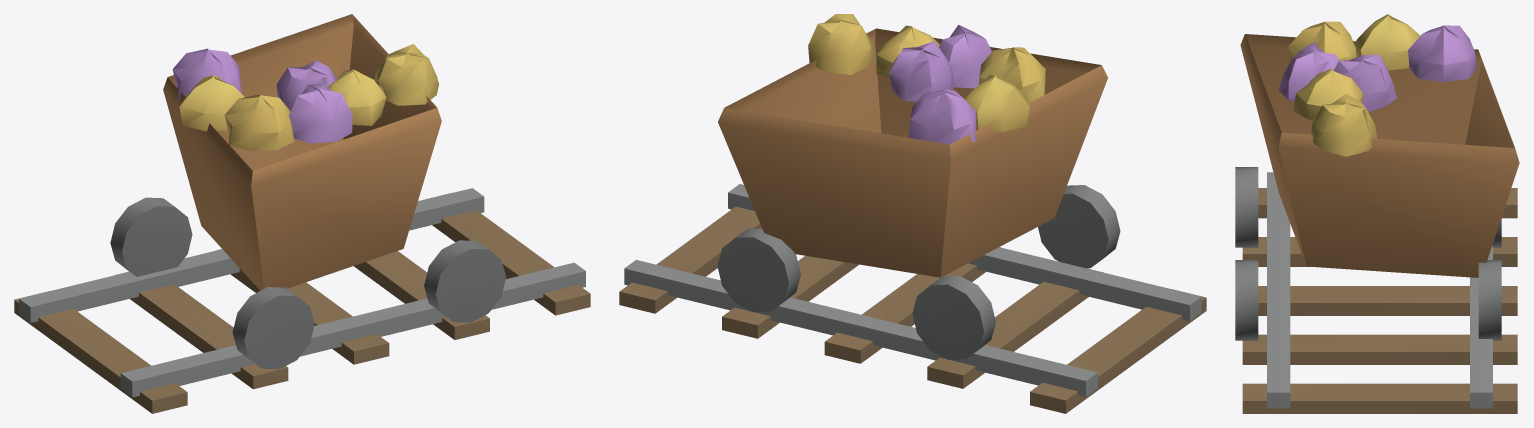
Rendered from cen_valak_vagonete_1.glb.
3 views of the same model, side by side, from view 1: azimuth 30°, elevation 25°; view 2: azimuth 150°, elevation 25°; view 3: azimuth 270°, elevation 25° (orthographic). The views are drawn at different scales.
Parts seen in each view (by area): view 1: vagonete; view 2: vagonete; view 3: vagonete.
Part boxes in pixels (x1,y1,x2,y2): vagonete: (14,14,590,413); vagonete: (619,14,1206,413); vagonete: (1235,14,1519,413).
Size of the model in its own units: 1.8 by 0.9599 by 0.9822.
